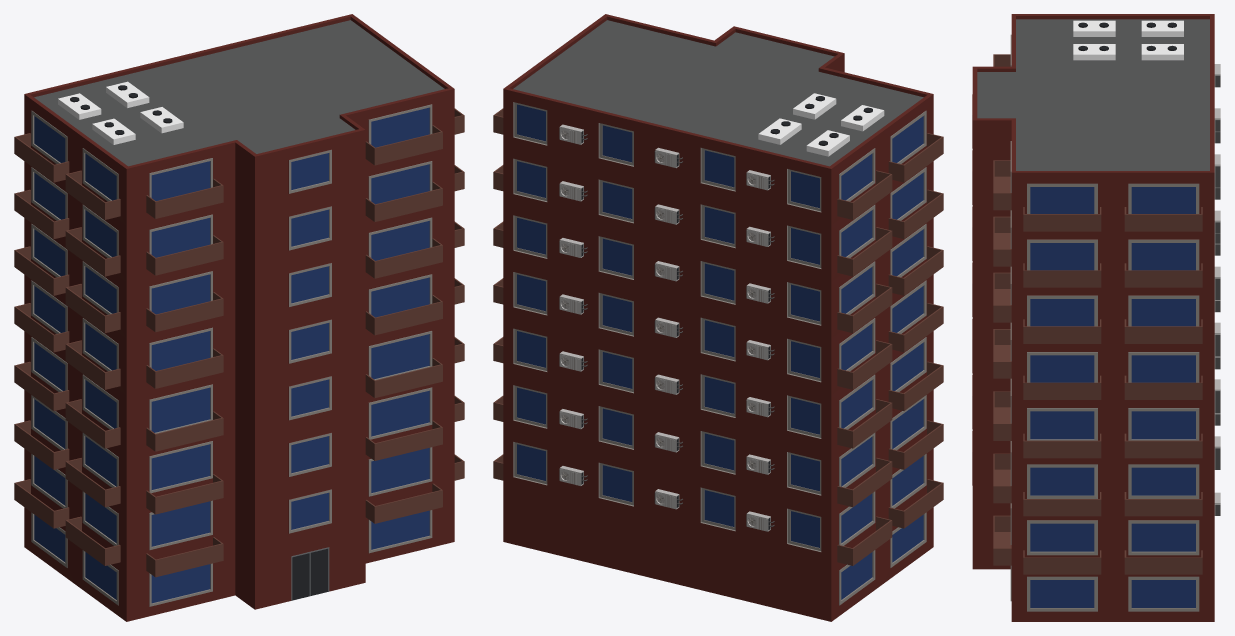
Rendered from Building_12.fbx.
3 renders of one model, left to right at view 1: azimuth 30°, elevation 25°; view 2: azimuth 150°, elevation 25°; view 3: azimuth 270°, elevation 25°, orthographic.
Visible parts, largest first — view 1: Building_12; view 2: Building_12; view 3: Building_12.
Part boxes in pixels (<box>): Building_12: <box>14,14,464,621</box>; Building_12: <box>493,14,943,621</box>; Building_12: <box>972,14,1220,621</box>.
Size of the model in its own units: 1487 by 1804 by 898.
